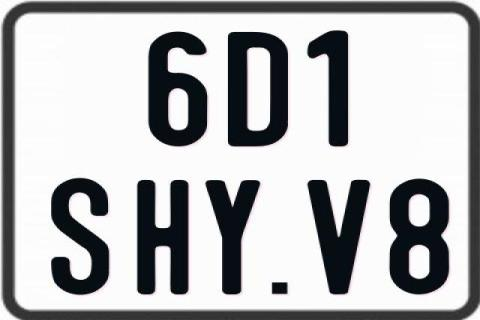0: (387, 177, 451, 297), (146, 31, 210, 147), (307, 31, 354, 147)
D: (225, 29, 286, 149)
H: (136, 179, 194, 297)
S: (49, 176, 108, 292)
V: (308, 179, 372, 297)
Y: (204, 177, 262, 297)
